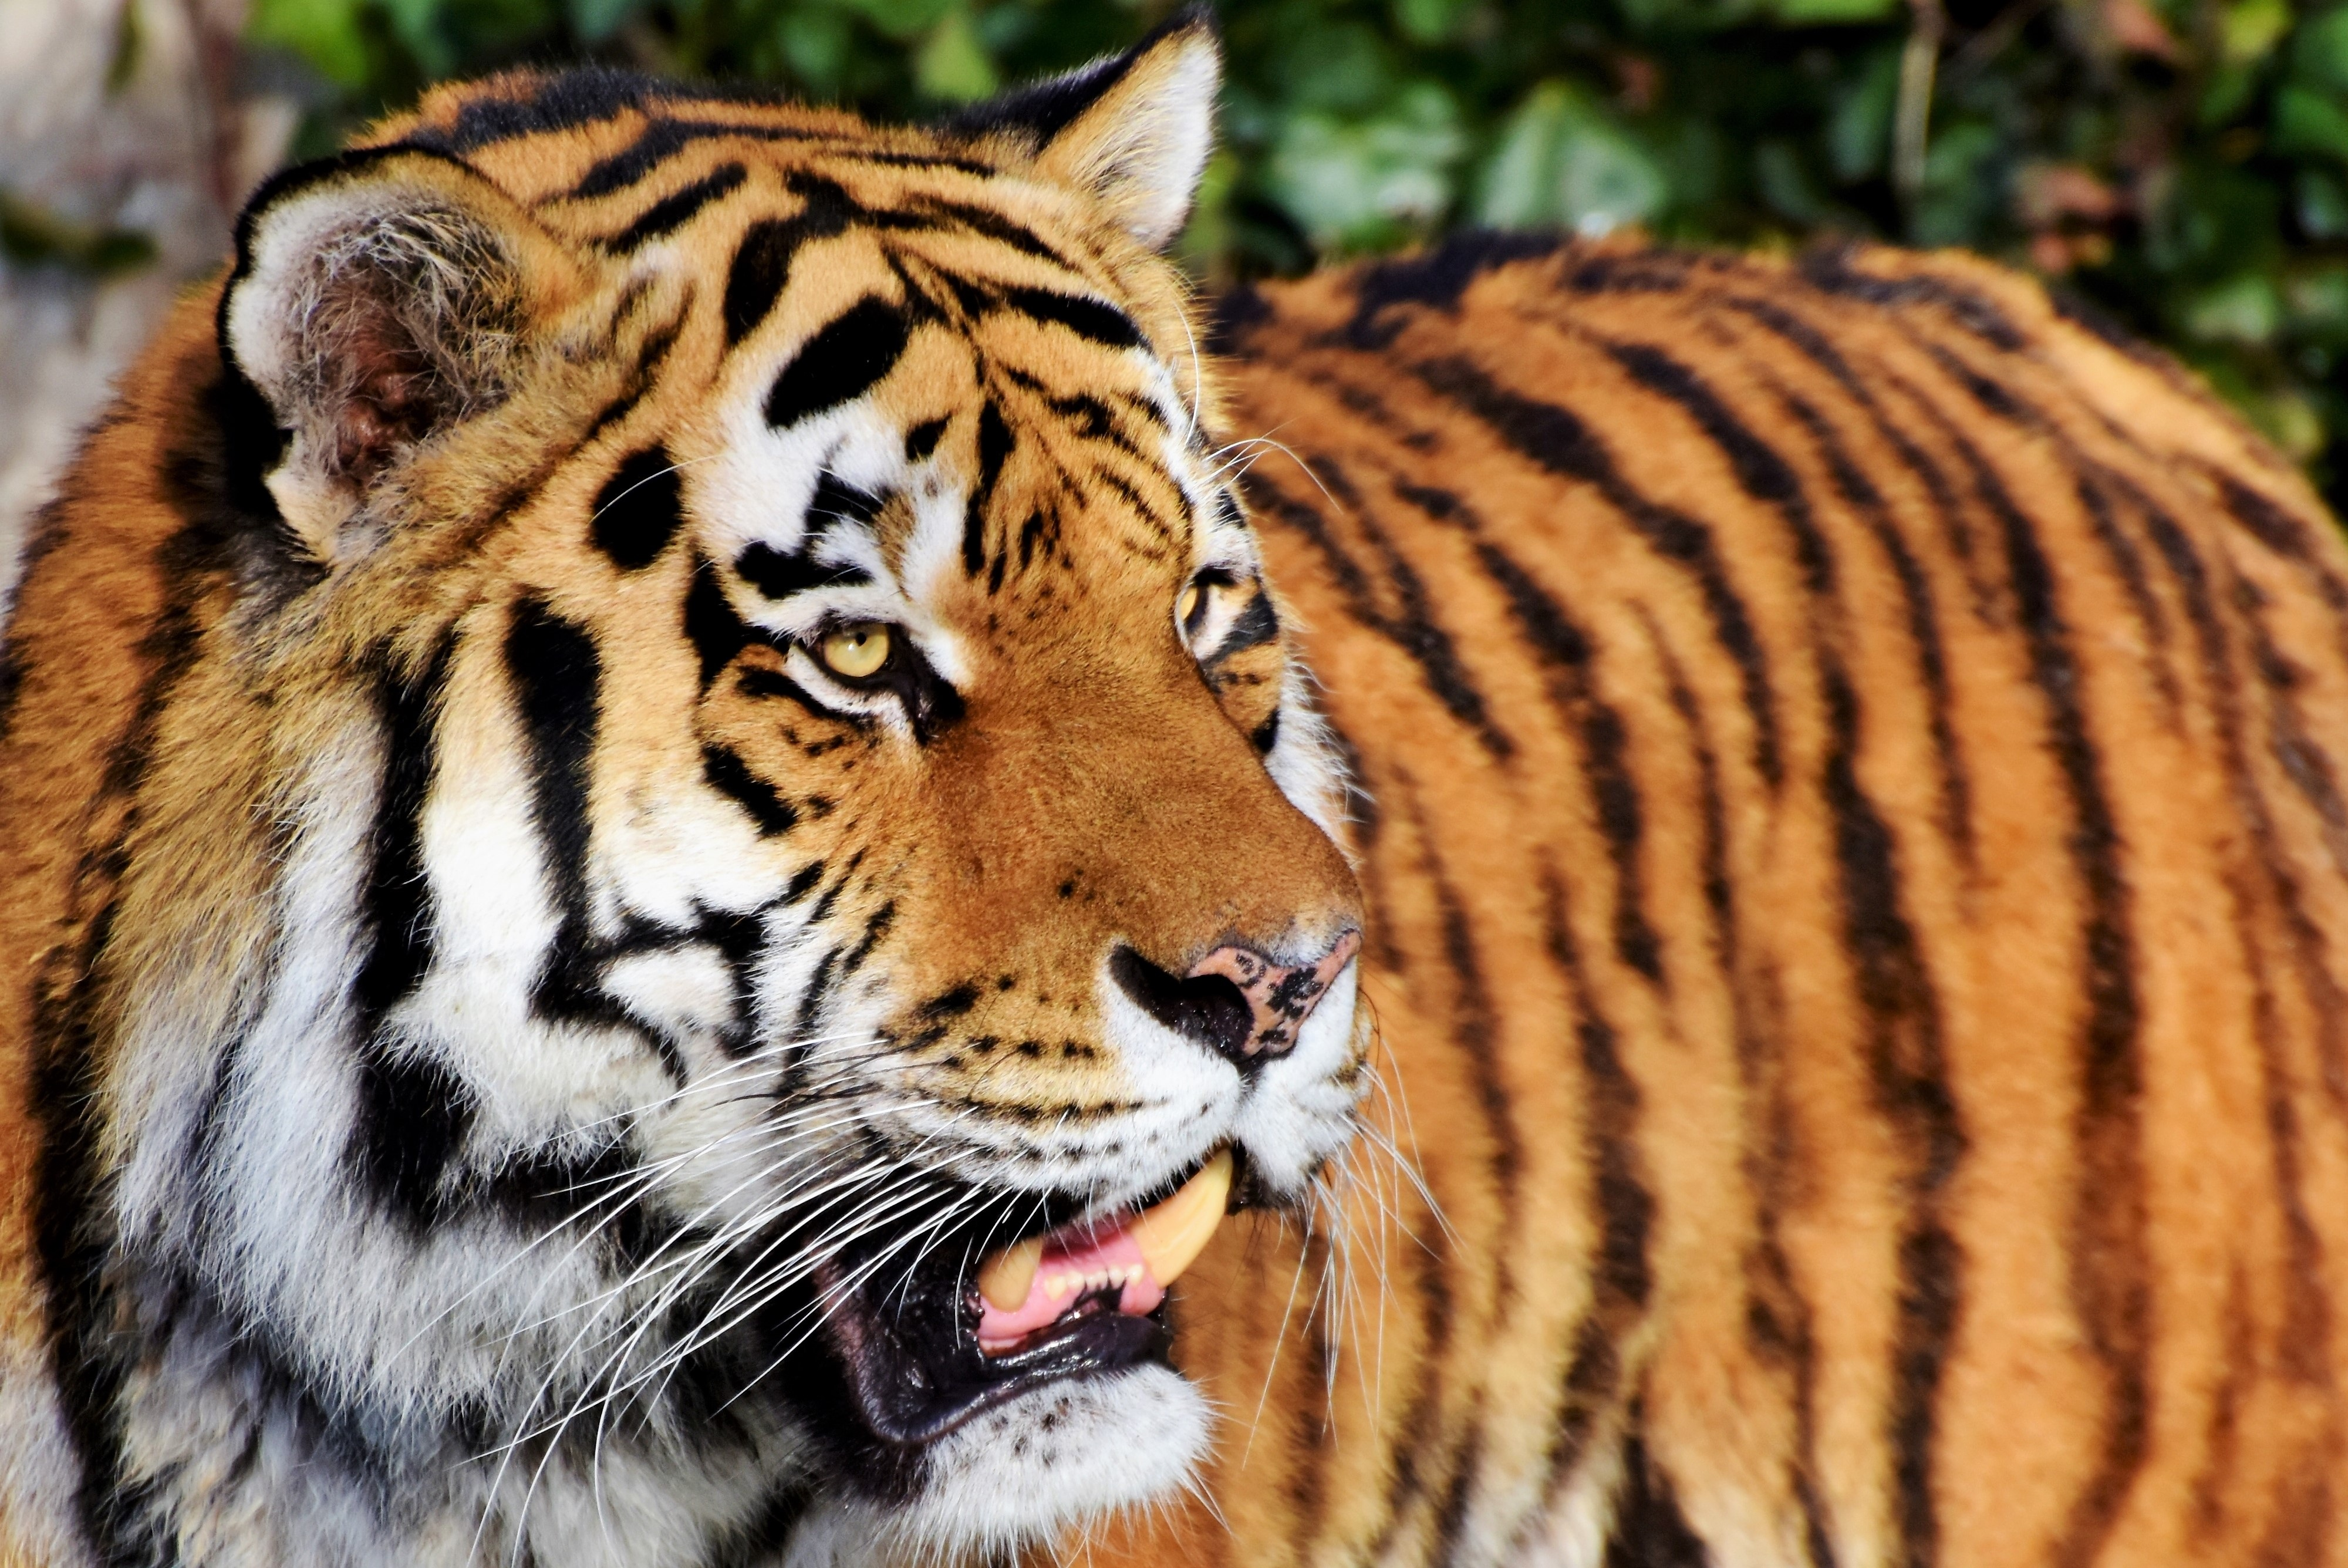tiger: (180, 82, 2247, 1542)
